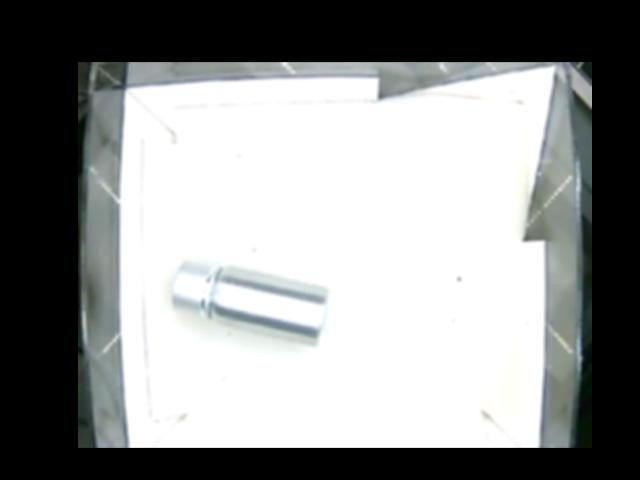Bottle: (170, 258, 330, 347)
